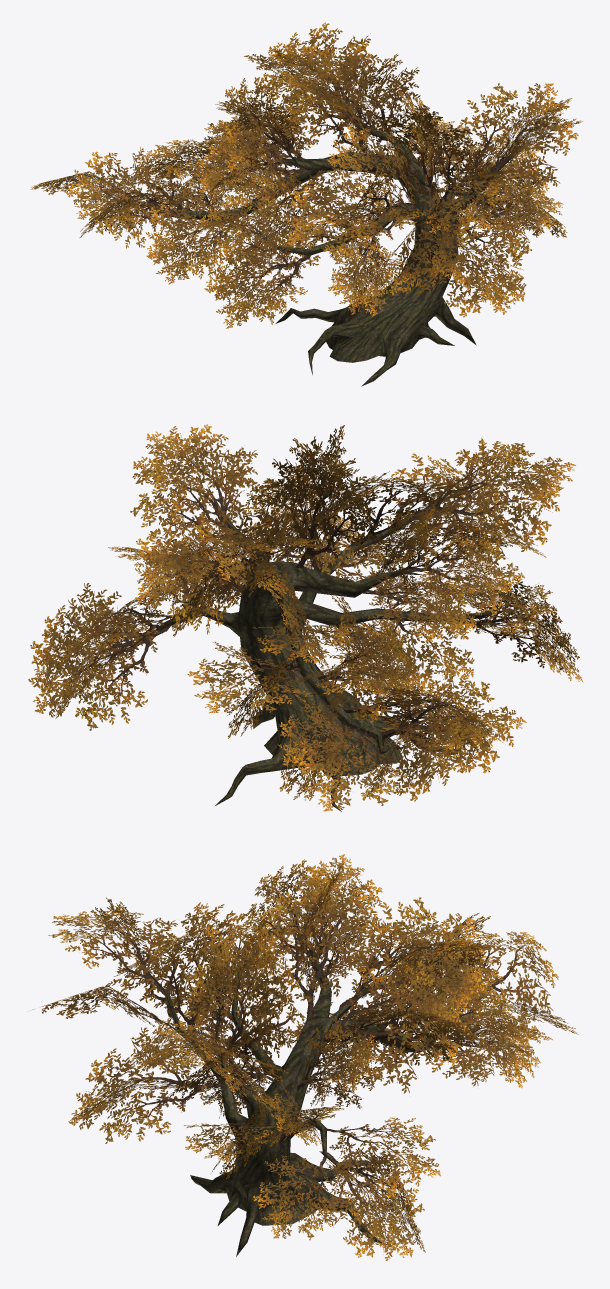
Rendered from Utility_Tree03_LOD0.FBX.
The picture shows the model from 3 angles, top to bottom: view 1: azimuth 30°, elevation 25°; view 2: azimuth 150°, elevation 25°; view 3: azimuth 270°, elevation 25°; orthographic projection. The views are drawn at different scales.
Visible parts, largest first — view 1: cmc_shu03_02_LOD0, cmc_shu03_01_LOD0; view 2: cmc_shu03_02_LOD0, cmc_shu03_01_LOD0; view 3: cmc_shu03_02_LOD0, cmc_shu03_01_LOD0.
Boxes of the visible parts, x1,y1,x2,y2 form: cmc_shu03_02_LOD0: [30, 22, 582, 328]; cmc_shu03_01_LOD0: [147, 110, 524, 386]; cmc_shu03_02_LOD0: [28, 424, 583, 811]; cmc_shu03_01_LOD0: [147, 485, 497, 811]; cmc_shu03_02_LOD0: [32, 854, 578, 1260]; cmc_shu03_01_LOD0: [148, 947, 474, 1256].
Bounding box in the file's own units: 2228 × 1475 × 2197.
